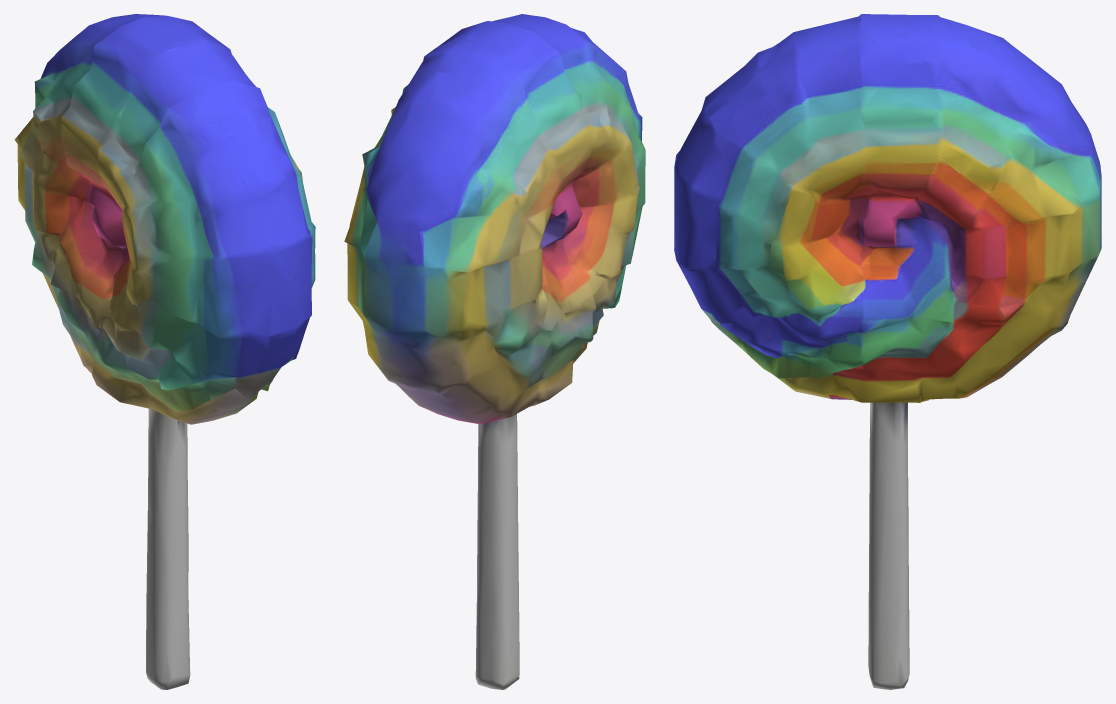
Rendered from lollipop.glb.
The picture shows the model from 3 angles, left to right: view 1: azimuth 30°, elevation 25°; view 2: azimuth 150°, elevation 25°; view 3: azimuth 270°, elevation 25°; orthographic projection.
Visible parts, largest first — view 1: tripo_node_70f60c7f-8d33-4952-ab3f-7fb3f359909d; view 2: tripo_node_70f60c7f-8d33-4952-ab3f-7fb3f359909d; view 3: tripo_node_70f60c7f-8d33-4952-ab3f-7fb3f359909d.
Boxes of the visible parts, x1,y1,x2,y2 form: tripo_node_70f60c7f-8d33-4952-ab3f-7fb3f359909d: (14, 14, 315, 689); tripo_node_70f60c7f-8d33-4952-ab3f-7fb3f359909d: (344, 14, 645, 689); tripo_node_70f60c7f-8d33-4952-ab3f-7fb3f359909d: (674, 14, 1101, 689).
Bounding box in the file's own units: 0.2805 × 1 × 0.5852.
Materials: 1 (1 with a texture image).
